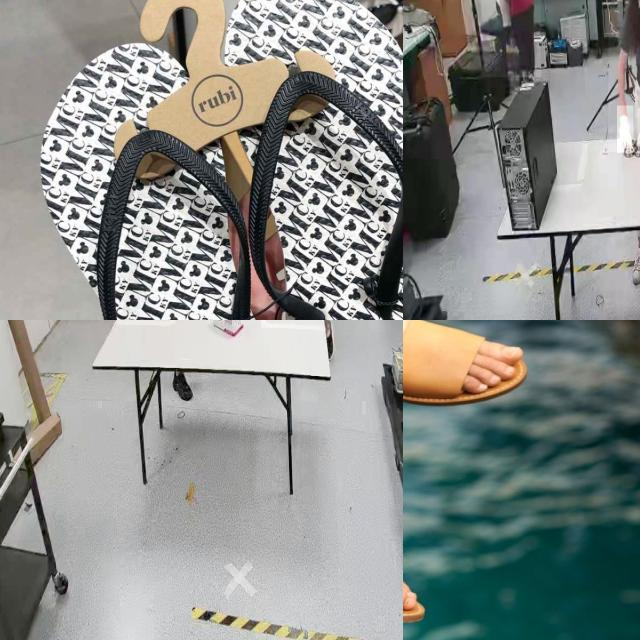Sandals: (5, 0, 403, 320), (403, 320, 529, 407)
hand_glove: (617, 105, 634, 154)
person: (608, 0, 640, 152), (481, 0, 541, 78)
shoes: (170, 372, 194, 407), (630, 242, 640, 286)
